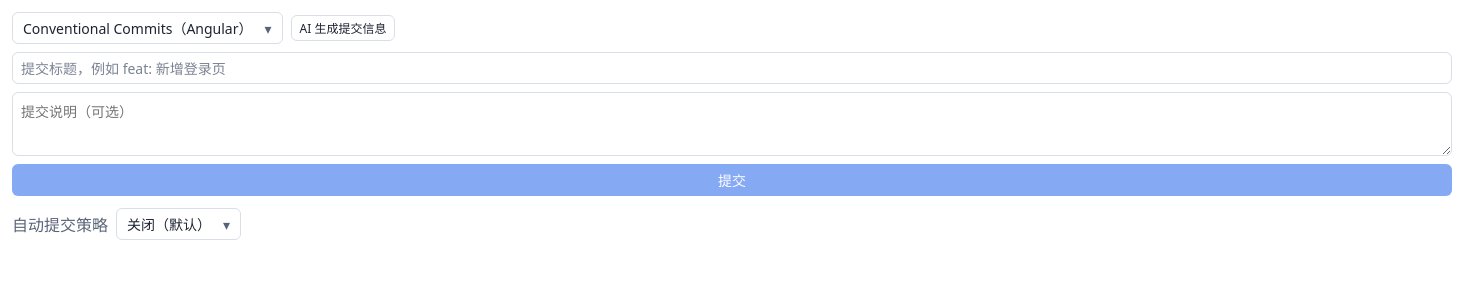
Test: CommitBox（T6-02 提交） › 提交信息不合规时禁用提交并给出中文错误
The image size is (1464, 289).
Type "随便写一句" into the field with test id "commit-subject" at (732, 68), box [21,53,1443,83]
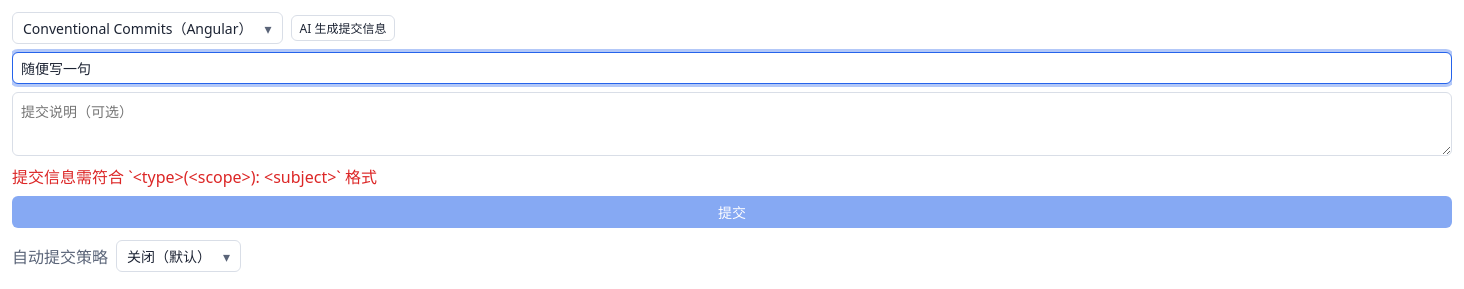
Check: the button with test id "commit-submit" is disabled, box [12,196,1452,228]
Check: the message "提交信息需符合 `<type>(<scope>): <subject>` 格式" is shown, box [12,166,377,188]
